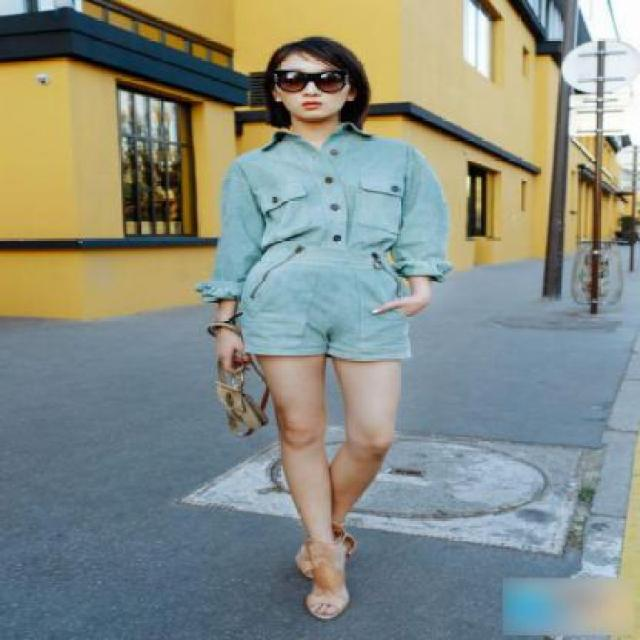Person: (175, 14, 474, 626)
